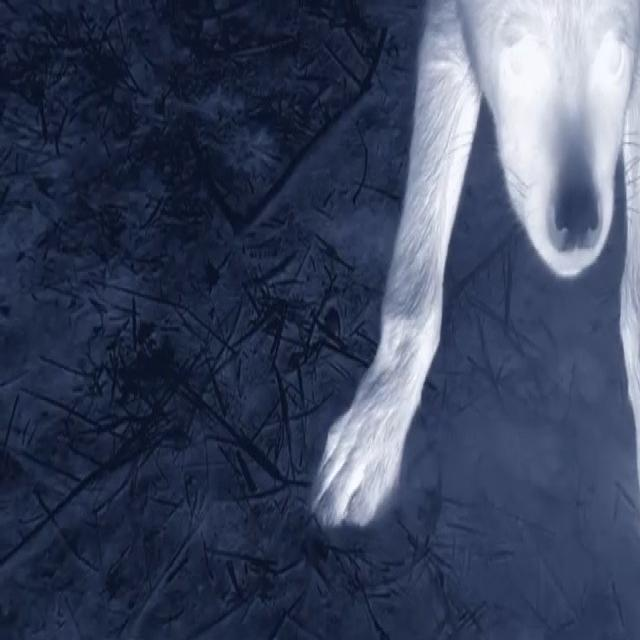animal: (314, 0, 640, 610)
